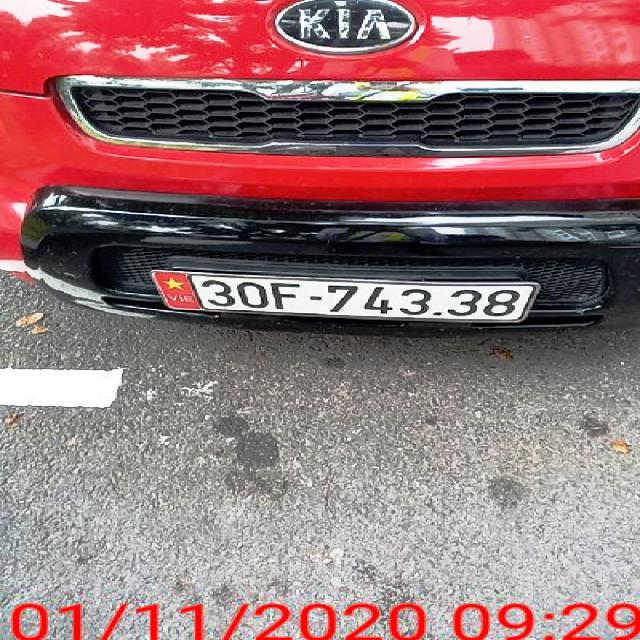license_plate: (152, 272, 540, 321)
